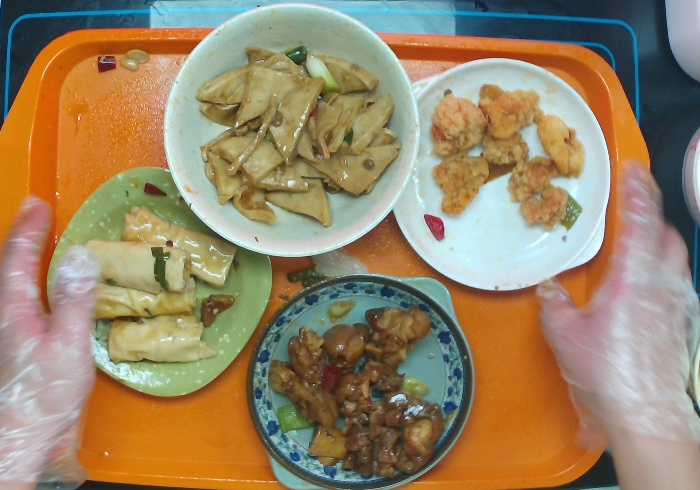NLDX-Bai_Se_Shuang_Er_Die: (387, 51, 611, 301)
NLDX-Bai_Se_Yuan_Wan: (160, 1, 422, 263)
NLDX-Lv_Hua_Fang_Die: (37, 162, 275, 400)
NLDX-Qing_Hua_Shuang_Er_Die: (242, 269, 479, 490)
